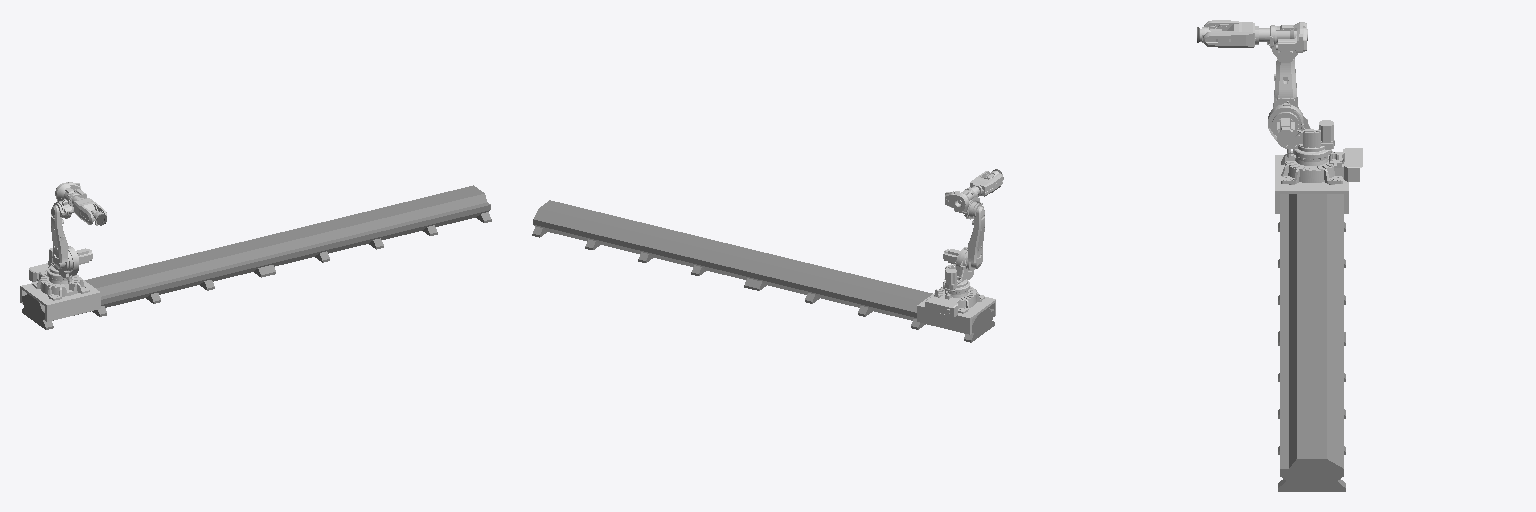
The robot description file, URDF, robot "dualarm_track":
<?xml version="1.0" ?>
<!-- =================================================================================== -->
<!-- |    This document was autogenerated by xacro from dualarm_track.urdf.xacro       | -->
<!-- |    EDITING THIS FILE BY HAND IS NOT RECOMMENDED                                 | -->
<!-- =================================================================================== -->
<robot name="dualarm_track">
  <material name="silver_default">
    <color rgba="0.700 0.700 0.700 1.000"/>
  </material>
  <material name="opaque215215215">
    <color rgba="0.8431372549019608 0.8431372549019608 0.8431372549019608 1.0"/>
  </material>
  <material name="opaque128128128">
    <color rgba="0.5019607843137255 0.5019607843137255 0.5019607843137255 1.0"/>
  </material>
  <material name="steel_satin">
    <color rgba="0.6274509803921569 0.6274509803921569 0.6274509803921569 1.0"/>
  </material>
  <!-- <xacro:include filename="$(find dualarm_track_support)/urdf/dualarm_track.trans" /> -->
  <link name="base_link">
    <inertial>
      <origin rpy="0 0 0" xyz="4.350000000000003 0.007802389093675564 0.22039220138139537"/>
      <mass value="17861.70571223475"/>
      <inertia ixx="874.507554" ixy="-0.0" ixz="0.0" iyy="113200.027675" iyz="-17.225414" izz="113619.462683"/>
    </inertial>
    <visual>
      <origin rpy="0 0 0" xyz="0 0 0"/>
      <geometry>
        <mesh filename="package://dualarm_track_support/meshes/base_link.stl" scale="0.001 0.001 0.001"/>
      </geometry>
      <material name="steel_satin"/>
    </visual>
    <collision>
      <origin rpy="0 0 0" xyz="0 0 0"/>
      <geometry>
        <mesh filename="package://dualarm_track_support/meshes/base_link.stl" scale="0.001 0.001 0.001"/>
      </geometry>
    </collision>
  </link>
  <link name="rob1_link2_1">
    <inertial>
      <origin rpy="0 0 0" xyz="-0.08783951896435793 -0.0005479770874912138 0.4192831405132833"/>
      <mass value="322.6869494051032"/>
      <inertia ixx="32.058389" ixy="-0.002905" ixz="2.969817" iyy="31.332255" iyz="0.067522" izz="2.725277"/>
    </inertial>
    <visual>
      <origin rpy="0 0 0" xyz="-0.3945 0.32 -1.158674"/>
      <geometry>
        <mesh filename="package://dualarm_track_support/meshes/rob1_link2_1.stl" scale="0.001 0.001 0.001"/>
      </geometry>
      <material name="opaque215215215"/>
    </visual>
    <collision>
      <origin rpy="0 0 0" xyz="-0.3945 0.32 -1.158674"/>
      <geometry>
        <mesh filename="package://dualarm_track_support/meshes/rob1_link2_1.stl" scale="0.001 0.001 0.001"/>
      </geometry>
    </collision>
  </link>
  <link name="rob1_link3_1">
    <inertial>
      <origin rpy="0 0 0" xyz="0.23437540848825827 0.04789961325356917 0.11779149410246958"/>
      <mass value="392.46903681876654"/>
      <inertia ixx="10.861718" ixy="-1.465206" ixz="-2.045934" iyy="11.726762" iyz="-1.592788" izz="11.751196"/>
    </inertial>
    <visual>
      <origin rpy="0 0 0" xyz="-0.299 0.32 -2.133674"/>
      <geometry>
        <mesh filename="package://dualarm_track_support/meshes/rob1_link3_1.stl" scale="0.001 0.001 0.001"/>
      </geometry>
      <material name="opaque215215215"/>
    </visual>
    <collision>
      <origin rpy="0 0 0" xyz="-0.299 0.32 -2.133674"/>
      <geometry>
        <mesh filename="package://dualarm_track_support/meshes/rob1_link3_1.stl" scale="0.001 0.001 0.001"/>
      </geometry>
    </collision>
  </link>
  <link name="rob1_link4_1">
    <inertial>
      <origin rpy="0 0 0" xyz="-0.014153009406352446 -0.3920696832791525 -6.094864964856228e-05"/>
      <mass value="283.78132224866226"/>
      <inertia ixx="11.46404" ixy="-0.662055" ixz="0.000528" iyy="3.961577" iyz="0.007475" izz="13.570946"/>
    </inertial>
    <visual>
      <origin rpy="0 0 0" xyz="-0.525 0.502 -2.333674"/>
      <geometry>
        <mesh filename="package://dualarm_track_support/meshes/rob1_link4_1.stl" scale="0.001 0.001 0.001"/>
      </geometry>
      <material name="opaque215215215"/>
    </visual>
    <collision>
      <origin rpy="0 0 0" xyz="-0.525 0.502 -2.333674"/>
      <geometry>
        <mesh filename="package://dualarm_track_support/meshes/rob1_link4_1.stl" scale="0.001 0.001 0.001"/>
      </geometry>
    </collision>
  </link>
  <link name="rob1_link5_1">
    <inertial>
      <origin rpy="0 0 0" xyz="-0.10016333880679884 -0.038074184295092905 -0.001302293522098541"/>
      <mass value="49.95763546704962"/>
      <inertia ixx="0.370215" ixy="-0.014389" ixz="-0.00385" iyy="0.204286" iyz="-0.00517" izz="0.398271"/>
    </inertial>
    <visual>
      <origin rpy="0 0 0" xyz="-0.627 1.207 -2.333674"/>
      <geometry>
        <mesh filename="package://dualarm_track_support/meshes/rob1_link5_1.stl" scale="0.001 0.001 0.001"/>
      </geometry>
      <material name="opaque215215215"/>
    </visual>
    <collision>
      <origin rpy="0 0 0" xyz="-0.627 1.207 -2.333674"/>
      <geometry>
        <mesh filename="package://dualarm_track_support/meshes/rob1_link5_1.stl" scale="0.001 0.001 0.001"/>
      </geometry>
    </collision>
  </link>
  <link name="rob1_link6_1">
    <inertial>
      <origin rpy="0 0 0" xyz="0.0004916127782503832 -0.013682763984406598 -8.503560273620536e-05"/>
      <mass value="7.203563041480472"/>
      <inertia ixx="0.019368" ixy="-8e-06" ixz="-7e-05" iyy="0.037108" iyz="-1e-06" izz="0.019147"/>
    </inertial>
    <visual>
      <origin rpy="0 0 0" xyz="-0.525 1.375 -2.333674"/>
      <geometry>
        <mesh filename="package://dualarm_track_support/meshes/rob1_link6_1.stl" scale="0.001 0.001 0.001"/>
      </geometry>
      <material name="opaque128128128"/>
    </visual>
    <collision>
      <origin rpy="0 0 0" xyz="-0.525 1.375 -2.333674"/>
      <geometry>
        <mesh filename="package://dualarm_track_support/meshes/rob1_link6_1.stl" scale="0.001 0.001 0.001"/>
      </geometry>
    </collision>
  </link>
  <link name="rob1_link1_1">
    <inertial>
      <origin rpy="0 0 0" xyz="0.03253750609511141 -0.1489015240206352 0.2997386971909384"/>
      <mass value="642.4142354132725"/>
      <inertia ixx="44.967832" ixy="2.179688" ixz="-2.614551" iyy="27.786175" iyz="12.883359" izz="35.549494"/>
    </inertial>
    <visual>
      <origin rpy="0 0 0" xyz="-0.525 0.0 -0.708674"/>
      <geometry>
        <mesh filename="package://dualarm_track_support/meshes/rob1_link1_1.stl" scale="0.001 0.001 0.001"/>
      </geometry>
      <material name="opaque215215215"/>
    </visual>
    <collision>
      <origin rpy="0 0 0" xyz="-0.525 0.0 -0.708674"/>
      <geometry>
        <mesh filename="package://dualarm_track_support/meshes/rob1_link1_1.stl" scale="0.001 0.001 0.001"/>
      </geometry>
    </collision>
  </link>
  <!-- <link name="rob2_link1_1">
    <inertial>
      <origin xyz="0.03253750609510231 -0.14890152402051815 0.2997386971909386" rpy="0 0 0"/>
      <mass value="642.4142354132725"/>
      <inertia ixx="44.967832" iyy="27.786175" izz="35.549494" ixy="2.179688" iyz="12.883359" ixz="-2.614551"/>
    </inertial>
    <visual>
      <origin xyz="-5.025 -0.0 -0.708674" rpy="0 0 0"/>
      <geometry>
        <mesh filename="package://dualarm_track_support/meshes/rob2_link1_1.stl" scale="0.001 0.001 0.001"/>
      </geometry>
      <material name="opaque215215215"/>
    </visual>
    <collision>
      <origin xyz="-5.025 -0.0 -0.708674" rpy="0 0 0"/>
      <geometry>
        <mesh filename="package://dualarm_track_support/meshes/rob2_link1_1.stl" scale="0.001 0.001 0.001"/>
      </geometry>
    </collision>
  </link>

  <link name="rob2_link2_1">
    <inertial>
      <origin xyz="-0.08783951896436637 -0.0005479770873740852 0.4192831405132835" rpy="0 0 0"/>
      <mass value="322.6869494051032"/>
      <inertia ixx="32.058389" iyy="31.332255" izz="2.725277" ixy="-0.002905" iyz="0.067522" ixz="2.969817"/>
    </inertial>
    <visual>
      <origin xyz="-4.8945 0.32 -1.158674" rpy="0 0 0"/>
      <geometry>
        <mesh filename="package://dualarm_track_support/meshes/rob2_link2_1.stl" scale="0.001 0.001 0.001"/>
      </geometry>
      <material name="opaque215215215"/>
    </visual>
    <collision>
      <origin xyz="-4.8945 0.32 -1.158674" rpy="0 0 0"/>
      <geometry>
        <mesh filename="package://dualarm_track_support/meshes/rob2_link2_1.stl" scale="0.001 0.001 0.001"/>
      </geometry>
    </collision>
  </link>

  <link name="rob2_link3_1">
    <inertial>
      <origin xyz="0.23437540848824945 0.04789961325368636 0.11779149410246958" rpy="0 0 0"/>
      <mass value="392.46903681876654"/>
      <inertia ixx="10.861718" iyy="11.726762" izz="11.751196" ixy="-1.465206" iyz="-1.592788" ixz="-2.045934"/>
    </inertial>
    <visual>
      <origin xyz="-4.799 0.32 -2.133674" rpy="0 0 0"/>
      <geometry>
        <mesh filename="package://dualarm_track_support/meshes/rob2_link3_1.stl" scale="0.001 0.001 0.001"/>
      </geometry>
      <material name="opaque215215215"/>
    </visual>
    <collision>
      <origin xyz="-4.799 0.32 -2.133674" rpy="0 0 0"/>
      <geometry>
        <mesh filename="package://dualarm_track_support/meshes/rob2_link3_1.stl" scale="0.001 0.001 0.001"/>
      </geometry>
    </collision>
  </link>

  <link name="rob2_link4_1">
    <inertial>
      <origin xyz="-0.014153009406362216 -0.3920696832790356 -6.094864964856228e-05" rpy="0 0 0"/>
      <mass value="283.78132224866226"/>
      <inertia ixx="11.46404" iyy="3.961577" izz="13.570946" ixy="-0.662055" iyz="0.007475" ixz="0.000528"/>
    </inertial>
    <visual>
      <origin xyz="-5.025 0.502 -2.333674" rpy="0 0 0"/>
      <geometry>
        <mesh filename="package://dualarm_track_support/meshes/rob2_link4_1.stl" scale="0.001 0.001 0.001"/>
      </geometry>
      <material name="opaque215215215"/>
    </visual>
    <collision>
      <origin xyz="-5.025 0.502 -2.333674" rpy="0 0 0"/>
      <geometry>
        <mesh filename="package://dualarm_track_support/meshes/rob2_link4_1.stl" scale="0.001 0.001 0.001"/>
      </geometry>
    </collision>
  </link>

  <link name="rob2_link5_1">
    <inertial>
      <origin xyz="-0.10016333880680772 -0.03807418429497589 -0.001302293522098541" rpy="0 0 0"/>
      <mass value="49.95763546704962"/>
      <inertia ixx="0.370215" iyy="0.204286" izz="0.398271" ixy="-0.014389" iyz="-0.00517" ixz="-0.00385"/>
    </inertial>
    <visual>
      <origin xyz="-5.127 1.207 -2.333674" rpy="0 0 0"/>
      <geometry>
        <mesh filename="package://dualarm_track_support/meshes/rob2_link5_1.stl" scale="0.001 0.001 0.001"/>
      </geometry>
      <material name="opaque215215215"/>
    </visual>
    <collision>
      <origin xyz="-5.127 1.207 -2.333674" rpy="0 0 0"/>
      <geometry>
        <mesh filename="package://dualarm_track_support/meshes/rob2_link5_1.stl" scale="0.001 0.001 0.001"/>
      </geometry>
    </collision>
  </link>

  <link name="rob2_link6_1">
    <inertial>
      <origin xyz="0.0004916127782417234 -0.013682763984289359 -8.503560273620536e-05" rpy="0 0 0"/>
      <mass value="7.203563041480472"/>
      <inertia ixx="0.019368" iyy="0.037108" izz="0.019147" ixy="-8e-06" iyz="-1e-06" ixz="-7e-05"/>
    </inertial>
    <visual>
      <origin xyz="-5.025 1.375 -2.333674" rpy="0 0 0"/>
      <geometry>
        <mesh filename="package://dualarm_track_support/meshes/rob2_link6_1.stl" scale="0.001 0.001 0.001"/>
      </geometry>
      <material name="opaque128128128"/>
    </visual>
    <collision>
      <origin xyz="-5.025 1.375 -2.333674" rpy="0 0 0"/>
      <geometry>
        <mesh filename="package://dualarm_track_support/meshes/rob2_link6_1.stl" scale="0.001 0.001 0.001"/>
      </geometry>
    </collision>
  </link> -->
  <link name="rob1_base_1">
    <inertial>
      <origin rpy="0 0 0" xyz="0.5251461441795046 0.07516456043445498 0.06698451289427176"/>
      <mass value="1368.8196309737446"/>
      <inertia ixx="145.638764" ixy="0.019464" ixz="-0.095943" iyy="98.236958" iyz="-9.296485" izz="202.449913"/>
    </inertial>
    <visual>
      <origin rpy="0 0 0" xyz="0.0 0.0 -0.433674"/>
      <geometry>
        <mesh filename="package://dualarm_track_support/meshes/rob1_base_1.stl" scale="0.001 0.001 0.001"/>
      </geometry>
      <material name="opaque215215215"/>
    </visual>
    <collision>
      <origin rpy="0 0 0" xyz="0.0 0.0 -0.433674"/>
      <geometry>
        <mesh filename="package://dualarm_track_support/meshes/rob1_base_1.stl" scale="0.001 0.001 0.001"/>
      </geometry>
    </collision>
  </link>
  <!-- <link name="rob2_base_1">
    <inertial>
      <origin xyz="5.025146144179496 0.07516456043457193 0.06698451289427176" rpy="0 0 0"/>
      <mass value="1368.8196309737452"/>
      <inertia ixx="145.638764" iyy="98.236958" izz="202.449913" ixy="0.019464" iyz="-9.296485" ixz="-0.095943"/>
    </inertial>
    <visual>
      <origin xyz="0.0 0.0 -0.433674" rpy="0 0 0"/>
      <geometry>
        <mesh filename="package://dualarm_track_support/meshes/rob2_base_1.stl" scale="0.001 0.001 0.001"/>
      </geometry>
      <material name="opaque215215215"/>
    </visual>
    <collision>
      <origin xyz="0.0 0.0 -0.433674" rpy="0 0 0"/>
      <geometry>
        <mesh filename="package://dualarm_track_support/meshes/rob2_base_1.stl" scale="0.001 0.001 0.001"/>
      </geometry>
    </collision>
  </link> -->
  <joint name="rob1_joint2" type="continuous">
    <origin rpy="0 0 0" xyz="-0.1305 -0.32 0.45"/>
    <parent link="rob1_link1_1"/>
    <child link="rob1_link2_1"/>
    <axis xyz="-1.0 0.0 0.0"/>
  </joint>
  <joint name="rob1_joint3" type="continuous">
    <origin rpy="0 0 0" xyz="-0.0955 0.0 0.975"/>
    <parent link="rob1_link2_1"/>
    <child link="rob1_link3_1"/>
    <axis xyz="-1.0 0.0 0.0"/>
  </joint>
  <joint name="rob1_joint4" type="continuous">
    <origin rpy="0 0 0" xyz="0.226 -0.182 0.2"/>
    <parent link="rob1_link3_1"/>
    <child link="rob1_link4_1"/>
    <axis xyz="-0.0 -1.0 -0.0"/>
  </joint>
  <joint name="rob1_joint5" type="continuous">
    <origin rpy="0 0 0" xyz="0.102 -0.705 0.0"/>
    <parent link="rob1_link4_1"/>
    <child link="rob1_link5_1"/>
    <axis xyz="-1.0 0.0 0.0"/>
  </joint>
  <joint name="rob1_joint6" type="continuous">
    <origin rpy="0 0 0" xyz="-0.102 -0.168 0.0"/>
    <parent link="rob1_link5_1"/>
    <child link="rob1_link6_1"/>
    <axis xyz="0.0 1.0 0.0"/>
  </joint>
  <joint name="rob1_joint1" type="continuous">
    <origin rpy="0 0 0" xyz="0.525 0.0 0.275"/>
    <parent link="rob1_base_1"/>
    <child link="rob1_link1_1"/>
    <axis xyz="0.0 -0.0 1.0"/>
  </joint>
  <!-- <joint name="rob2_joint1" type="continuous">
    <origin xyz="5.025 0.0 0.275" rpy="0 0 0"/>
    <parent link="rob2_base_1"/>
    <child link="rob2_link1_1"/>
    <axis xyz="0.0 0.0 1.0"/>
  </joint>

  <joint name="rob2_joint2" type="continuous">
    <origin xyz="-0.1305 -0.32 0.45" rpy="0 0 0"/>
    <parent link="rob2_link1_1"/>
    <child link="rob2_link2_1"/>
    <axis xyz="-1.0 0.0 0.0"/>
  </joint>

  <joint name="rob2_joint3" type="continuous">
    <origin xyz="-0.0955 0.0 0.975" rpy="0 0 0"/>
    <parent link="rob2_link2_1"/>
    <child link="rob2_link3_1"/>
    <axis xyz="1.0 -0.0 0.0"/>
  </joint>

  <joint name="rob2_joint4" type="continuous">
    <origin xyz="0.226 -0.182 0.2" rpy="0 0 0"/>
    <parent link="rob2_link3_1"/>
    <child link="rob2_link4_1"/>
    <axis xyz="-0.0 -1.0 0.0"/>
  </joint>

  <joint name="rob2_joint5" type="continuous">
    <origin xyz="0.102 -0.705 0.0" rpy="0 0 0"/>
    <parent link="rob2_link4_1"/>
    <child link="rob2_link5_1"/>
    <axis xyz="-1.0 0.0 -0.0"/>
  </joint>

  <joint name="rob2_joint6" type="continuous">
    <origin xyz="-0.102 -0.168 0.0" rpy="0 0 0"/>
    <parent link="rob2_link5_1"/>
    <child link="rob2_link6_1"/>
    <axis xyz="-0.0 -1.0 -0.0"/>
  </joint> -->

  <joint name="rob1_track" type="prismatic">
    <origin rpy="0 0 0" xyz="0.0 0.0 0.433674"/>
    <parent link="base_link"/>
    <child link="rob1_base_1"/>
    <axis xyz="1.0 0.0 0.0"/>
    <limit effort="100" lower="0.0" upper="3.5" velocity="100"/>
  </joint>
  <!-- <joint name="rob2_track" type="prismatic">
    <origin xyz="0.0 0.0 0.433674" rpy="0 0 0"/>
    <parent link="base_link"/>
    <child link="rob2_base_1"/>
    <axis xyz="1.0 0.0 0.0"/>
    <limit upper="7.5" lower="4.5" effort="100" velocity="100"/>
  </joint> -->
  
  <ros2_control name="ABBMultiInterfaceHardware" type="system">
    <hardware>
      <plugin>mock_components/GenericSystem</plugin>
      <param name="fake_sensor_commands">false</param>
      <param name="state_following_offset">0.0</param>
    </hardware>
    <joint name="rob1_joint1">
      <command_interface name="position">
        <param name="min">-6.283185307179586</param>
        <param name="max">6.283185307179586</param>
      </command_interface>
      <command_interface name="velocity"/>
      <state_interface name="position">
        <param name="initial_value">0.0</param>
      </state_interface>
      <state_interface name="velocity"/>
    </joint>
    <joint name="rob1_joint2">
      <command_interface name="position">
        <param name="min">-2.41</param>
        <param name="max">2.41</param>
      </command_interface>
      <command_interface name="velocity"/>
      <state_interface name="position">
        <param name="initial_value">0.0</param>
      </state_interface>
      <state_interface name="velocity"/>
    </joint>
    <joint name="rob1_joint3">
      <command_interface name="position">
        <param name="min">-6.283185307179586</param>
        <param name="max">6.283185307179586</param>
      </command_interface>
      <command_interface name="velocity"/>
      <state_interface name="position">
        <param name="initial_value">0.0</param>
      </state_interface>
      <state_interface name="velocity"/>
    </joint>
    <joint name="rob1_joint4">
      <command_interface name="position">
        <param name="min">-2.66</param>
        <param name="max">2.66</param>
      </command_interface>
      <command_interface name="velocity"/>
      <state_interface name="position">
        <param name="initial_value">0.0</param>
      </state_interface>
      <state_interface name="velocity"/>
    </joint>
    <joint name="rob1_joint5">
      <command_interface name="position">
        <param name="min">-6.283185307179586</param>
        <param name="max">6.283185307179586</param>
      </command_interface>
      <command_interface name="velocity"/>
      <state_interface name="position">
        <param name="initial_value">0.0</param>
      </state_interface>
      <state_interface name="velocity"/>
    </joint>
    <joint name="rob1_joint6">
      <command_interface name="position">
        <param name="min">-2.23</param>
        <param name="max">2.23</param>
      </command_interface>
      <command_interface name="velocity"/>
      <state_interface name="position">
        <param name="initial_value">0.0</param>
      </state_interface>
      <state_interface name="velocity"/>
    </joint>
    <joint name="rob1_track">
      <command_interface name="position">
        <param name="min">0</param>
        <param name="max">3.5</param>
      </command_interface>
      <command_interface name="velocity"/>
      <state_interface name="position">
        <param name="initial_value">0.0</param>
      </state_interface>
      <state_interface name="velocity"/>
    </joint>
  </ros2_control>
  <!-- rob2 ros2_control -->
  <!-- <xacro:include filename="$(find dualarm_track_support)/urdf/dualarm_track2.ros2_control.xacro" />
    <xacro:abb_ros2_control
      name="ABBMultiInterfaceHardware"
      prefix=""
      use_fake_hardware="${use_fake_hardware}"
      rws_ip="${rws_ip}"
      rws_port="${rws_port}"
      configure_via_rws="${configure_via_rws}"/> -->
</robot>

--- What the picture shows (computed from the rendered views, not written in the file) ---
The picture shows the robot from 3 angles, left to right: view 1: azimuth 30°, elevation 25°; view 2: azimuth 150°, elevation 25°; view 3: azimuth 270°, elevation 25°; orthographic projection.
Model dualarm_track with 8 links and 7 joints (6 continuous, 1 prismatic), rooted at base_link, posed all joints at 0.
Links seen in each view (by area): view 1: base_link, rob1_base_1, rob1_link2_1, rob1_link1_1, rob1_link3_1, rob1_link4_1; view 2: base_link, rob1_base_1, rob1_link1_1, rob1_link2_1, rob1_link3_1; view 3: base_link, rob1_base_1, rob1_link1_1, rob1_link4_1, rob1_link3_1, rob1_link2_1.
Boxes of the visible links, bbox=[...] form: base_link: bbox=[22, 185, 491, 329]; rob1_base_1: bbox=[20, 263, 100, 321]; rob1_link2_1: bbox=[51, 203, 69, 270]; rob1_link1_1: bbox=[47, 246, 92, 283]; rob1_link3_1: bbox=[55, 182, 86, 218]; rob1_link4_1: bbox=[70, 195, 106, 224]; base_link: bbox=[532, 200, 994, 342]; rob1_base_1: bbox=[917, 286, 995, 334]; rob1_link1_1: bbox=[943, 247, 973, 294]; rob1_link2_1: bbox=[967, 203, 984, 270]; rob1_link3_1: bbox=[945, 187, 982, 219]; base_link: bbox=[1278, 194, 1345, 491]; rob1_base_1: bbox=[1275, 148, 1362, 213]; rob1_link1_1: bbox=[1268, 101, 1334, 161]; rob1_link4_1: bbox=[1203, 20, 1269, 47]; rob1_link3_1: bbox=[1267, 22, 1307, 62]; rob1_link2_1: bbox=[1273, 58, 1298, 108].
Bounding box of the posed robot: 8.7 × 2.03 × 2.5 m (x, y, z).
Meshes: 8 distinct files referenced, 8 mesh visuals loaded (8 binary STL).
